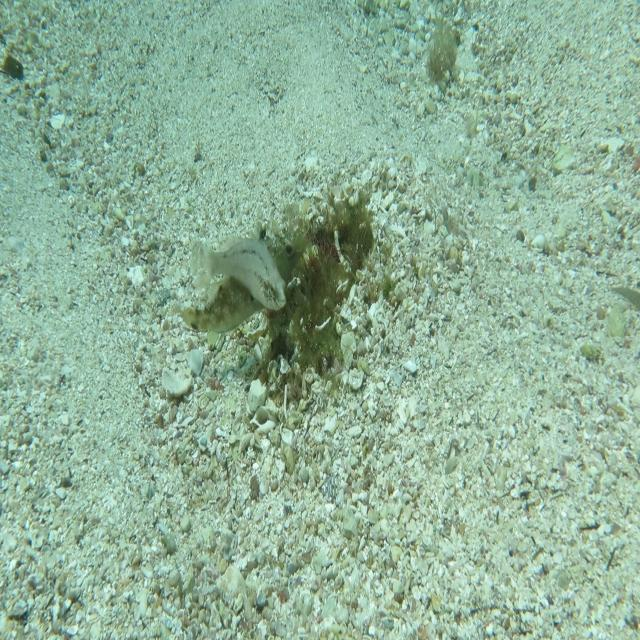FAN: (179, 217, 308, 334)
core_nest: (312, 215, 367, 256)
female: (195, 233, 288, 313)
nest: (255, 177, 395, 415)
